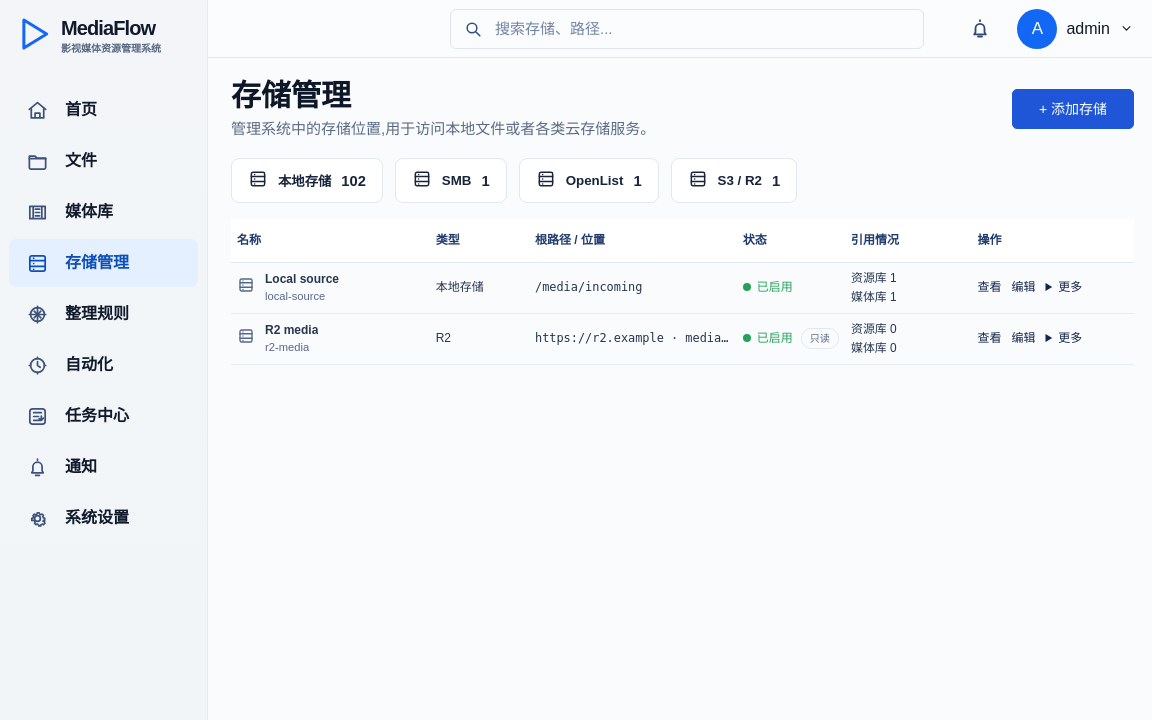
it: Storage management journey › applies the provider family filter on the server side
This screenshot has width=1152, height=720.
Expected: the heading "存储管理" is shown, [231,79,351,112]
Expected: the table is shown, [231,219,1134,364]
Click the button "S3 / R2 1" at point(734, 180), box [671,158,797,203]
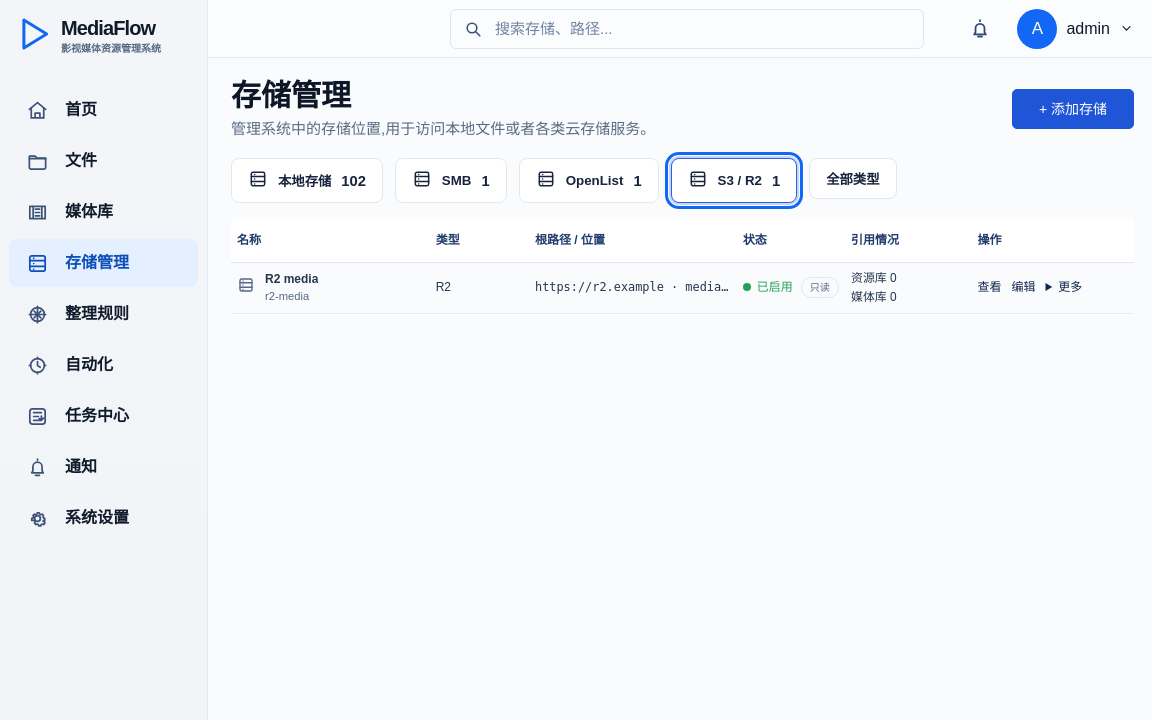
Expected: the text "R2 media" is shown, [265,270,318,288]
Now the number of rows is 2, box [231,219,1134,262]; [231,262,1134,313]
Click the button "全部类型" at point(853, 178), box [809,158,896,199]
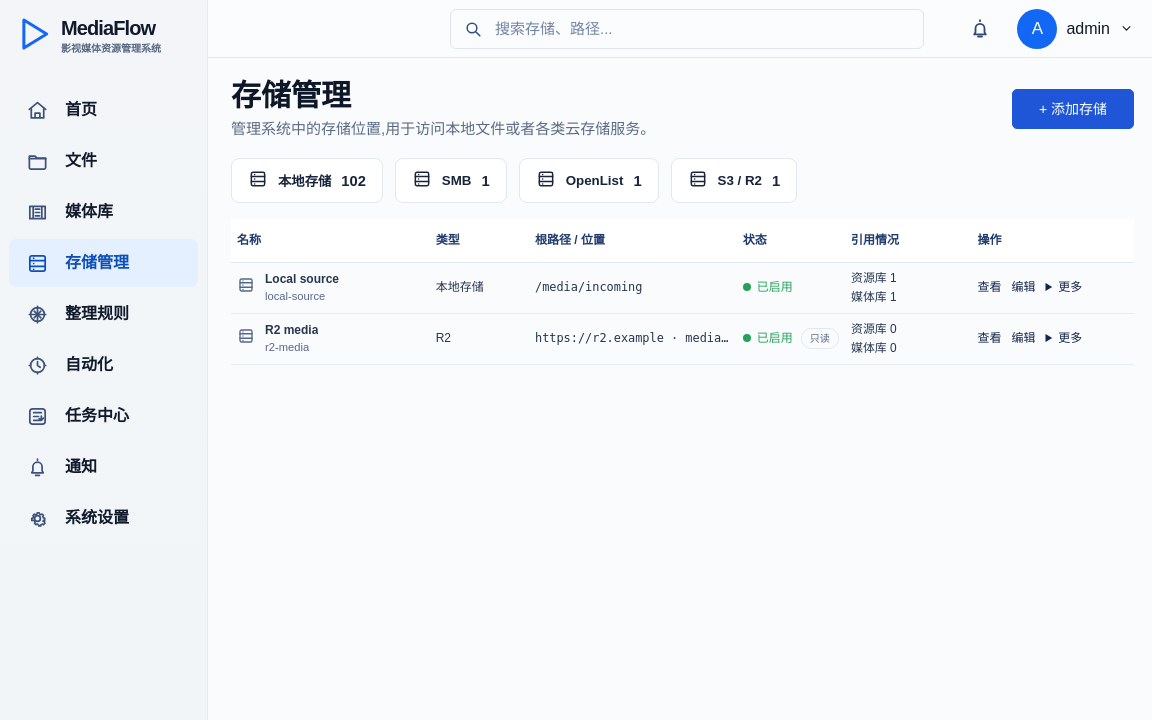
Now the number of rows is 3, box [231,219,1134,262]; [231,262,1134,313]; [231,313,1134,364]
